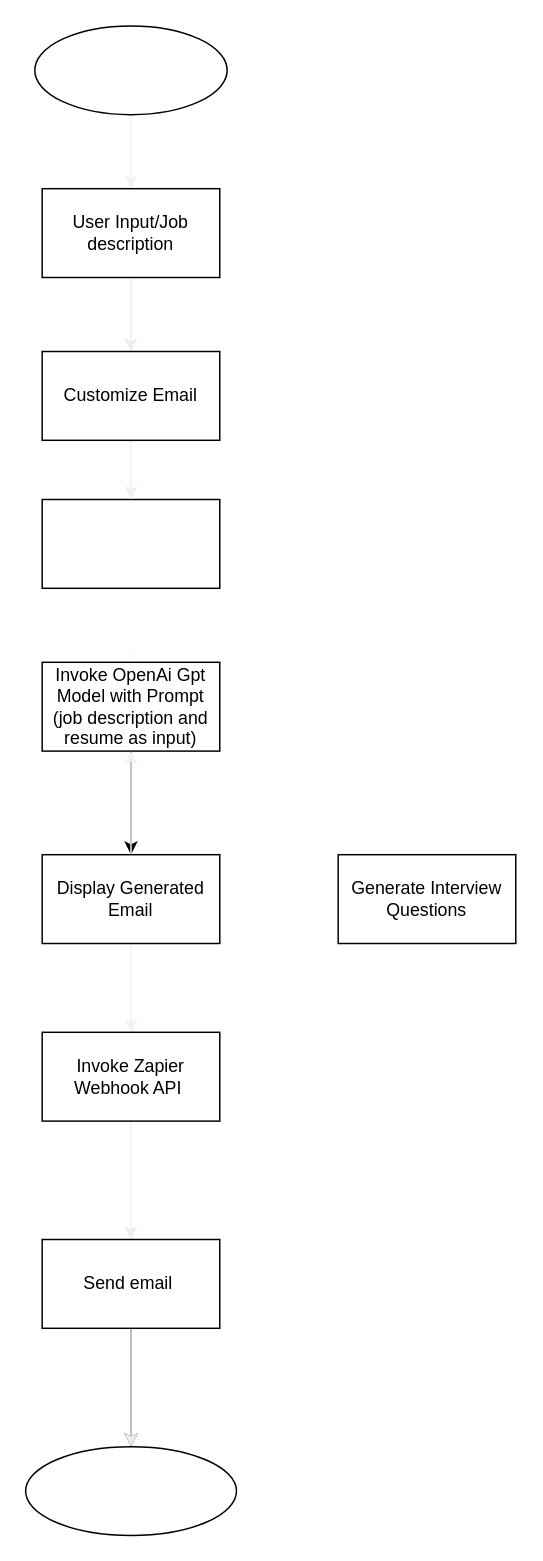
Image size: 543x1561. Some labels were removed from this diagram. Each missing label, with the centre of its shape:
END: the point at 130,1490
Start: the point at 130,69
Upload Resume: the point at 130,543
